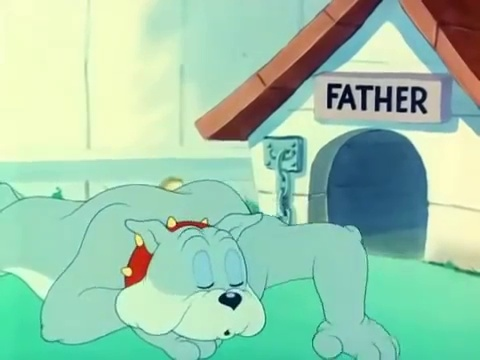spike: (113, 210, 266, 351)
